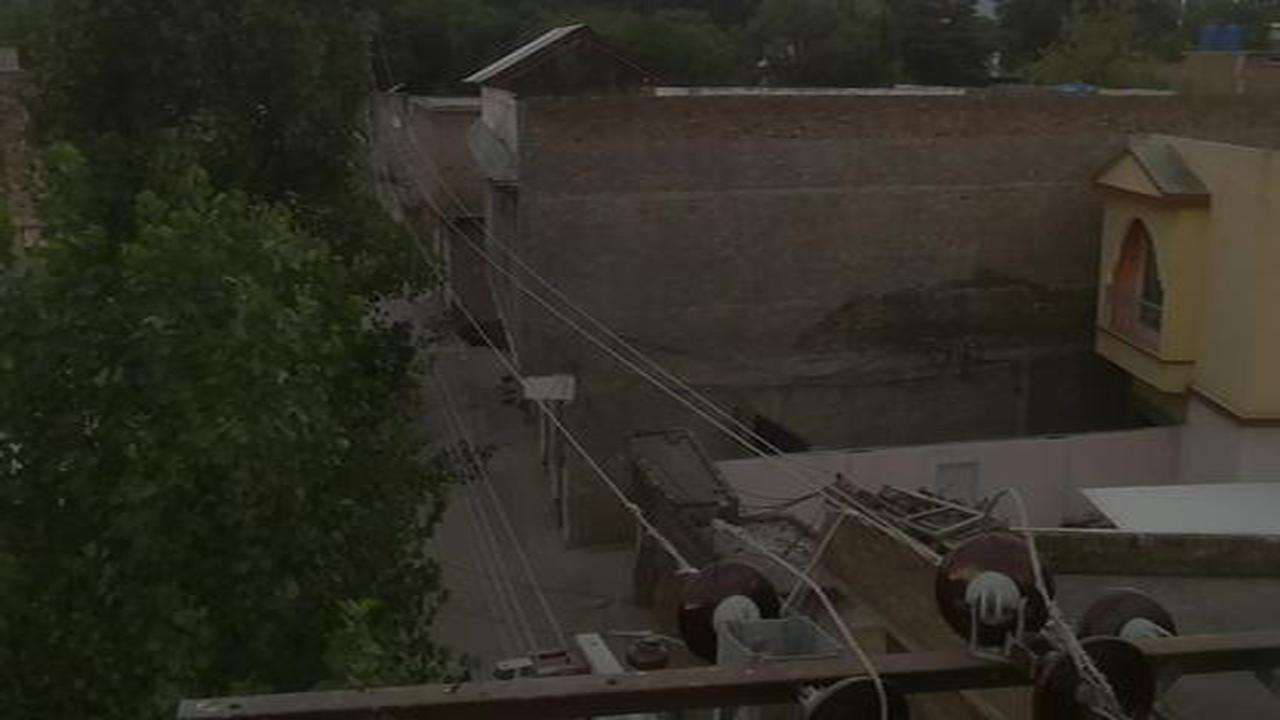insulator_disc: (934, 530, 1057, 638), (674, 565, 784, 664), (1036, 648, 1161, 710), (1079, 593, 1179, 646)
